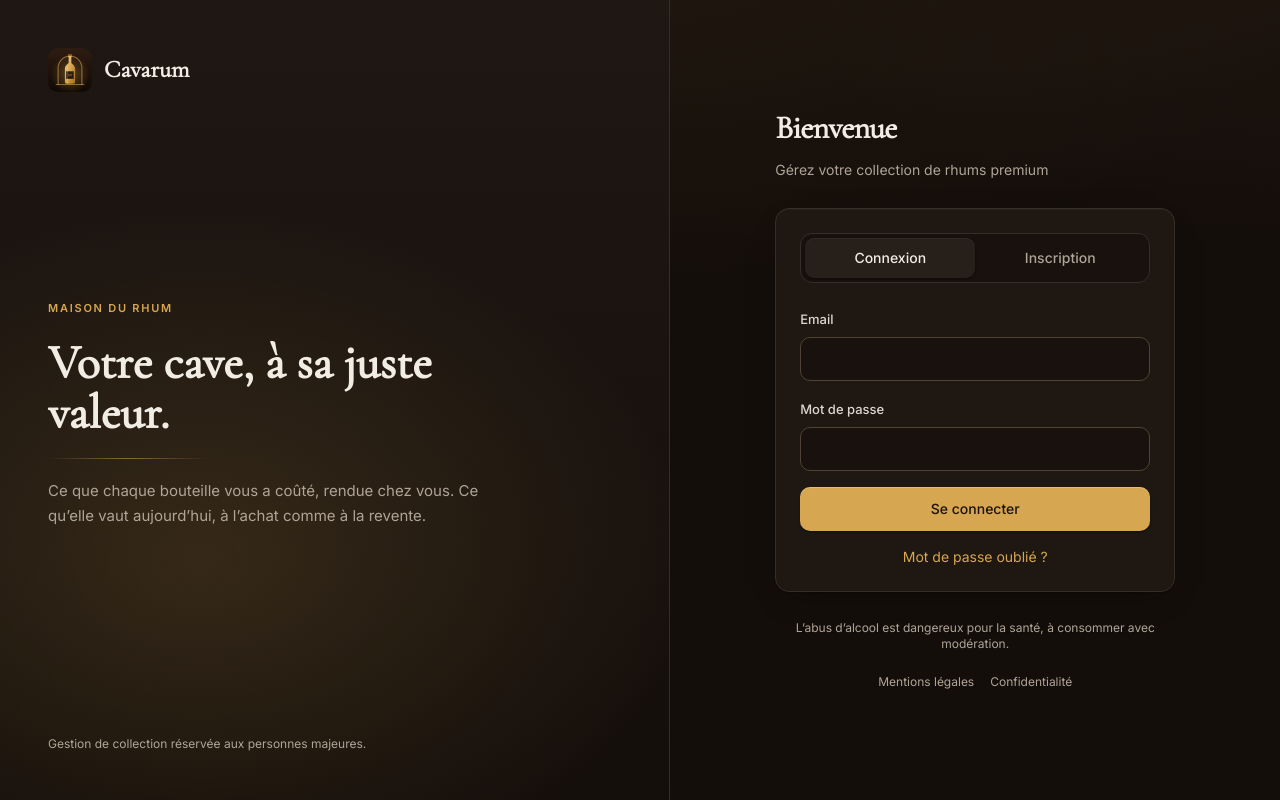
Test: AuthPage › refuse l’inscription sans confirmation d’avoir 18 ans ou plus
This screenshot has width=1280, height=800.
Step 1. Click the tab "Inscription" → (1060, 258), box [975,238,1145,278]
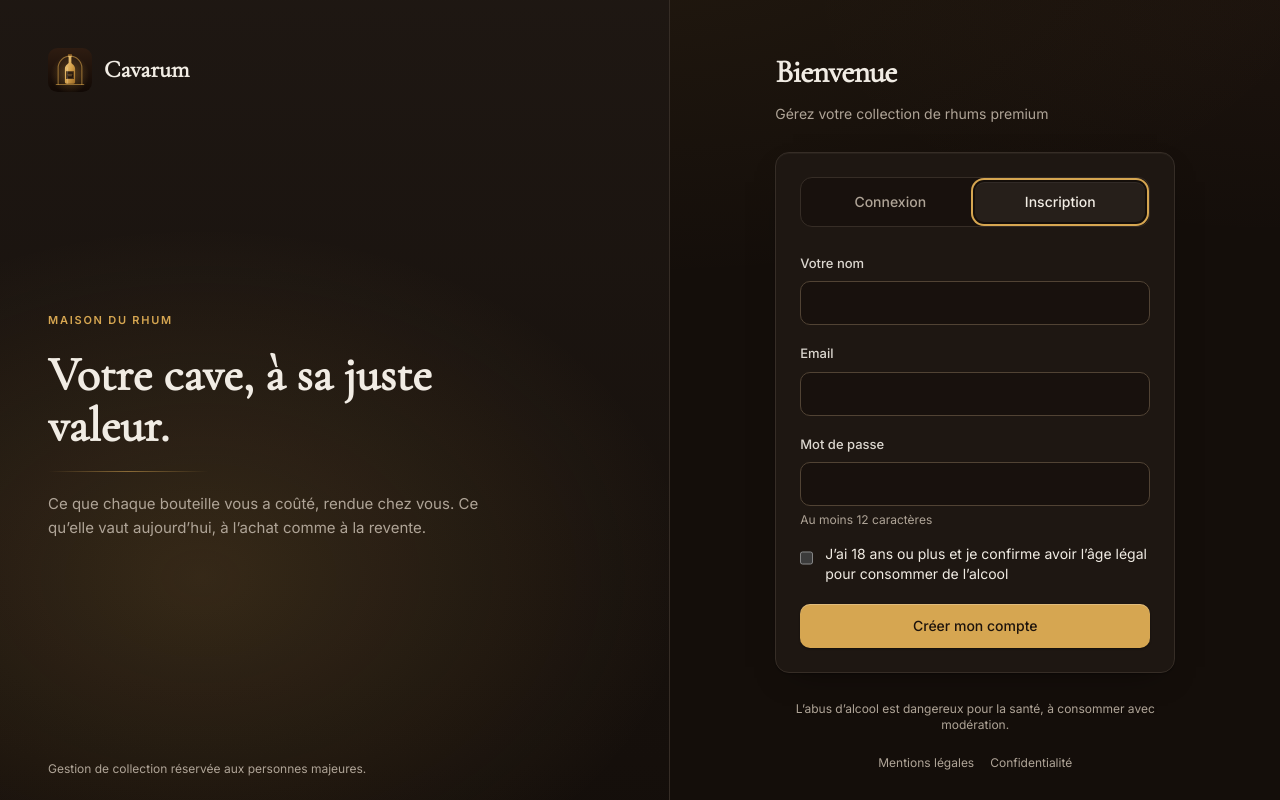
Step 2. Type "Fred" into the field labelled "Votre nom" → (975, 303), box [800,281,1150,325]
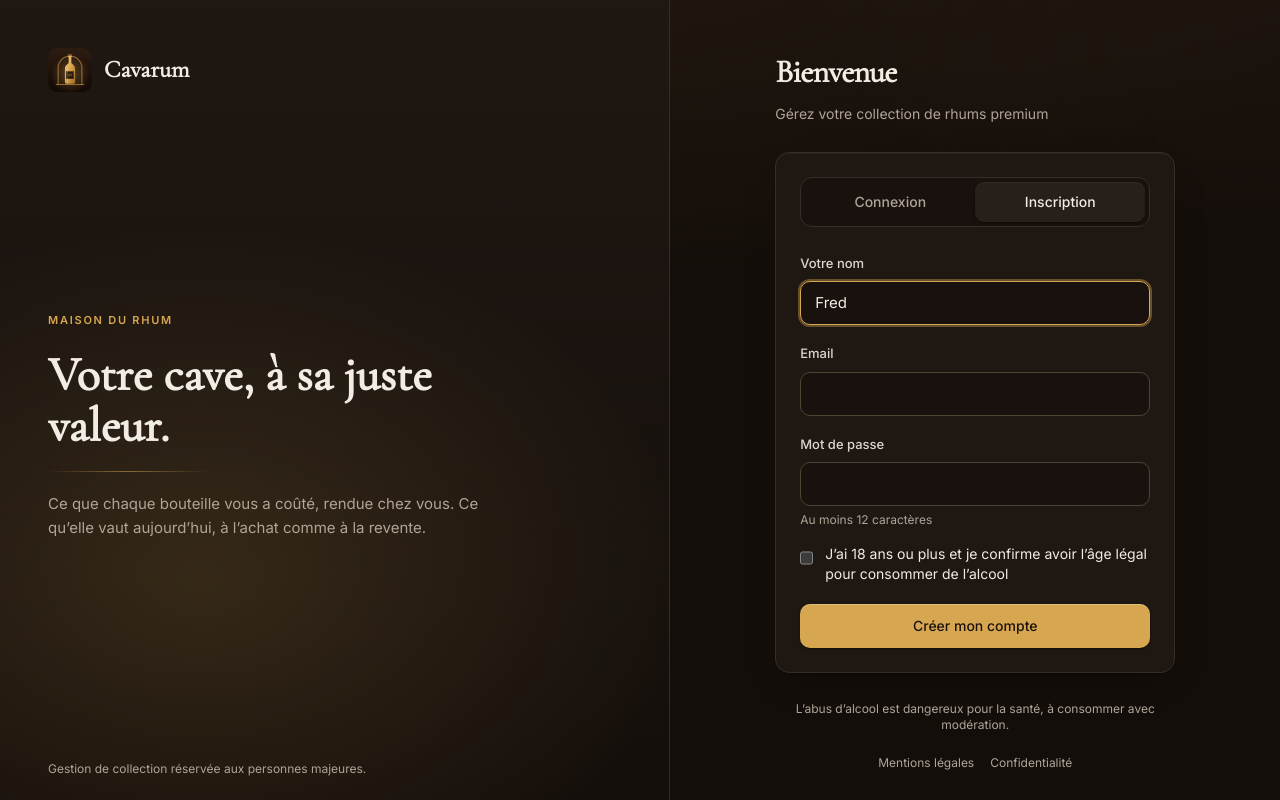
Step 3. Type "fred@example.com" into the field labelled "Email" → (975, 394), box [800,372,1150,416]
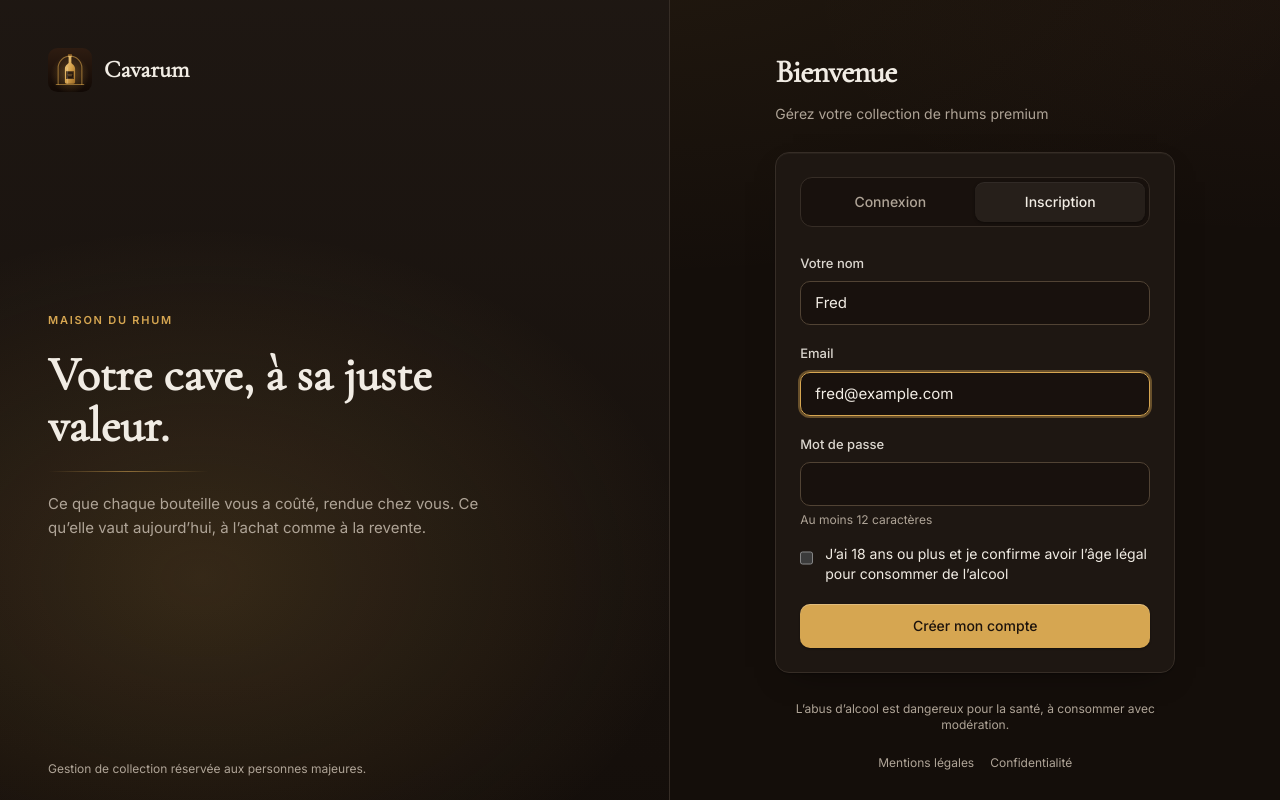
Step 4. Type "rhum-agricole-1" into the password field labelled "Mot de passe" → (975, 484), box [800,462,1150,506]
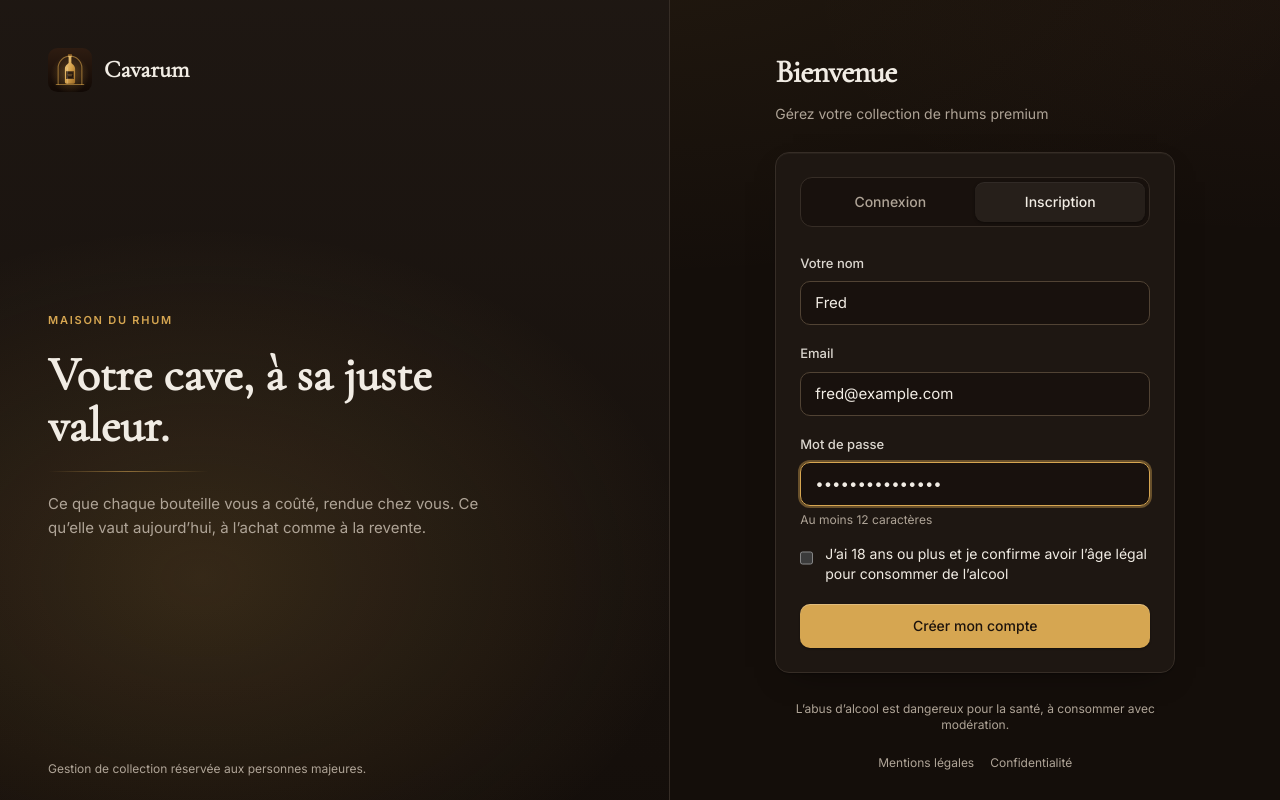
Step 5. Click the button "Créer mon compte" → (975, 626), box [800,604,1150,648]
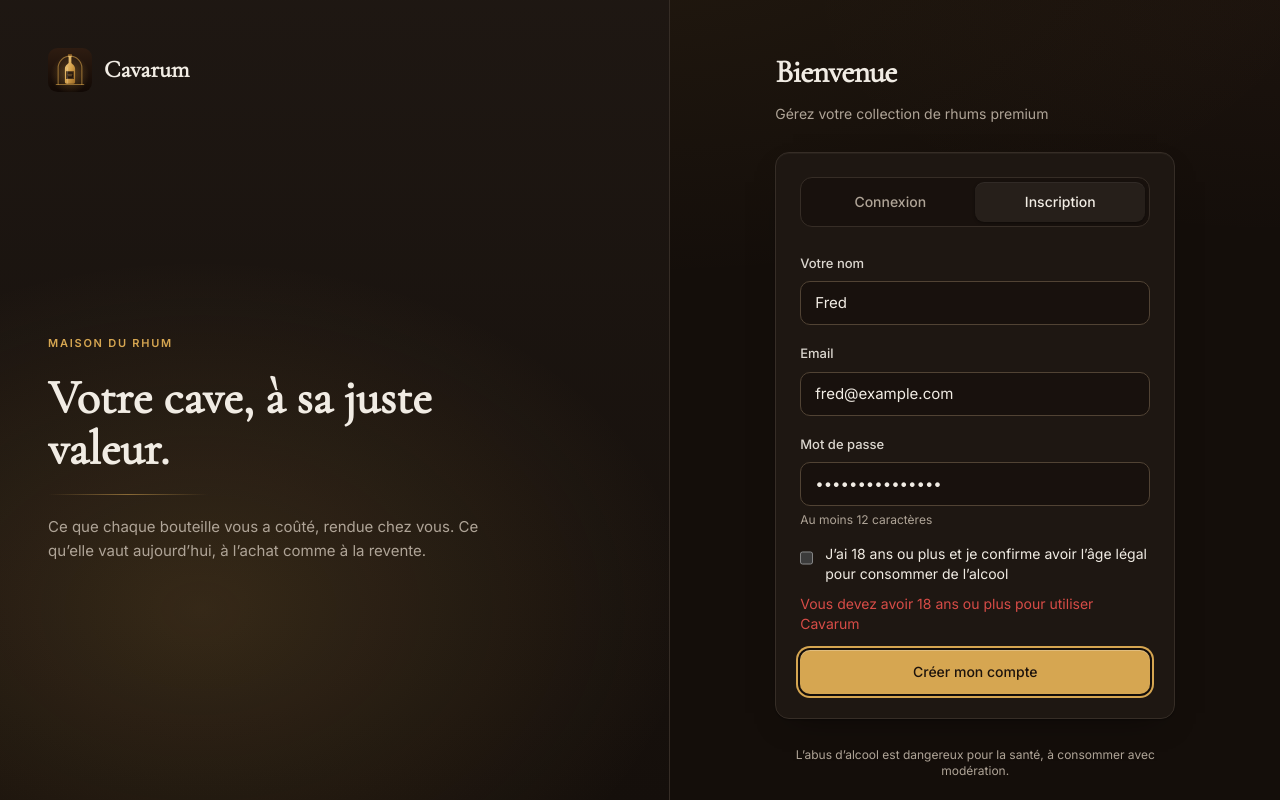
Check: the text "Vous devez avoir 18 ans ou plus pour utiliser Cavarum" is shown, box [800,595,1093,632]
